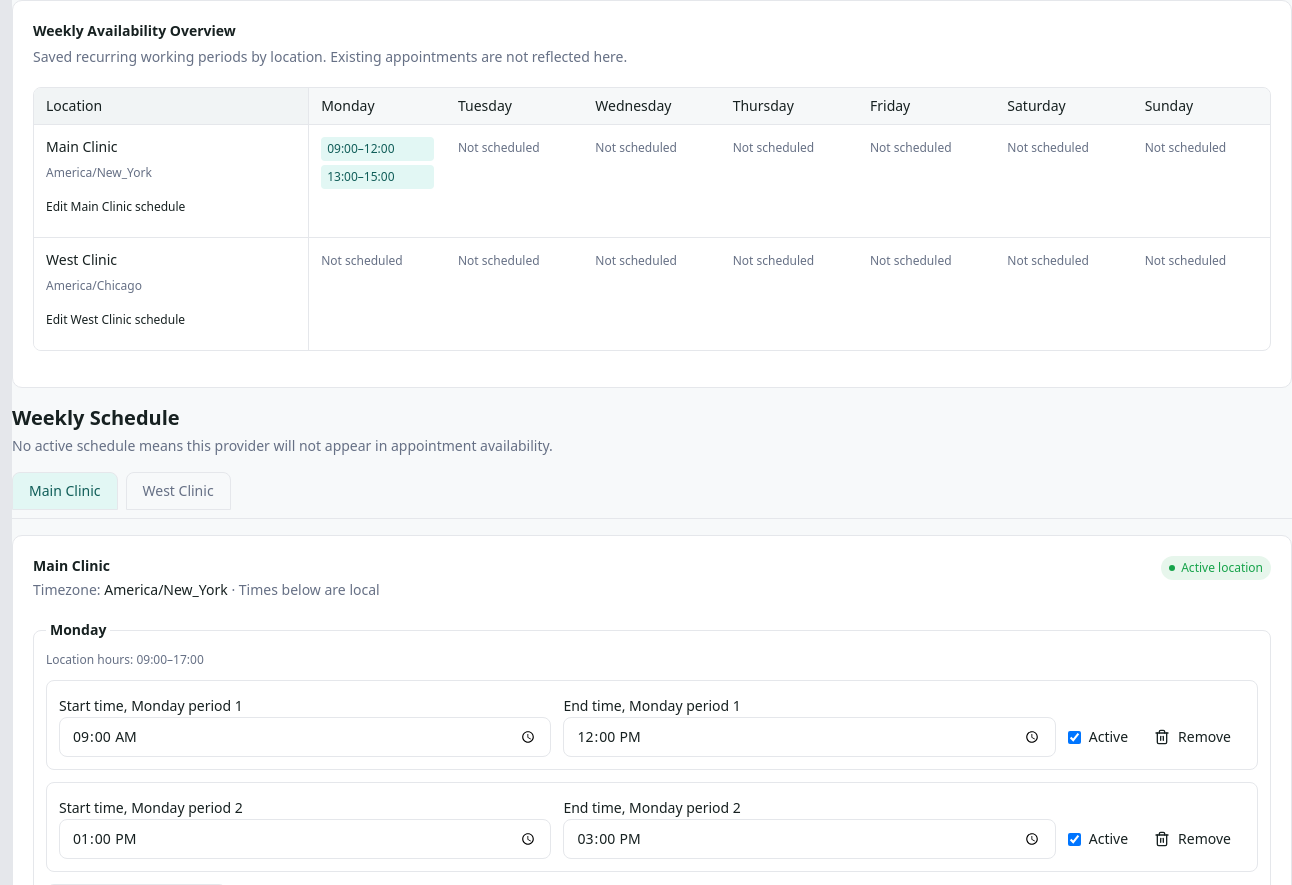
it: ProviderSchedule › switches tabs without requests and preserves accessible unsaved drafts
The width and height of the screenshot is (1292, 885).
Expected: the tab "Main Clinic" is shown, [12,472,118,510]
Replace the text in the time field labelled "End time, Monday period 1" with "11:45". click: {"x": 810, "y": 737}
box: [563,717,1056,757]
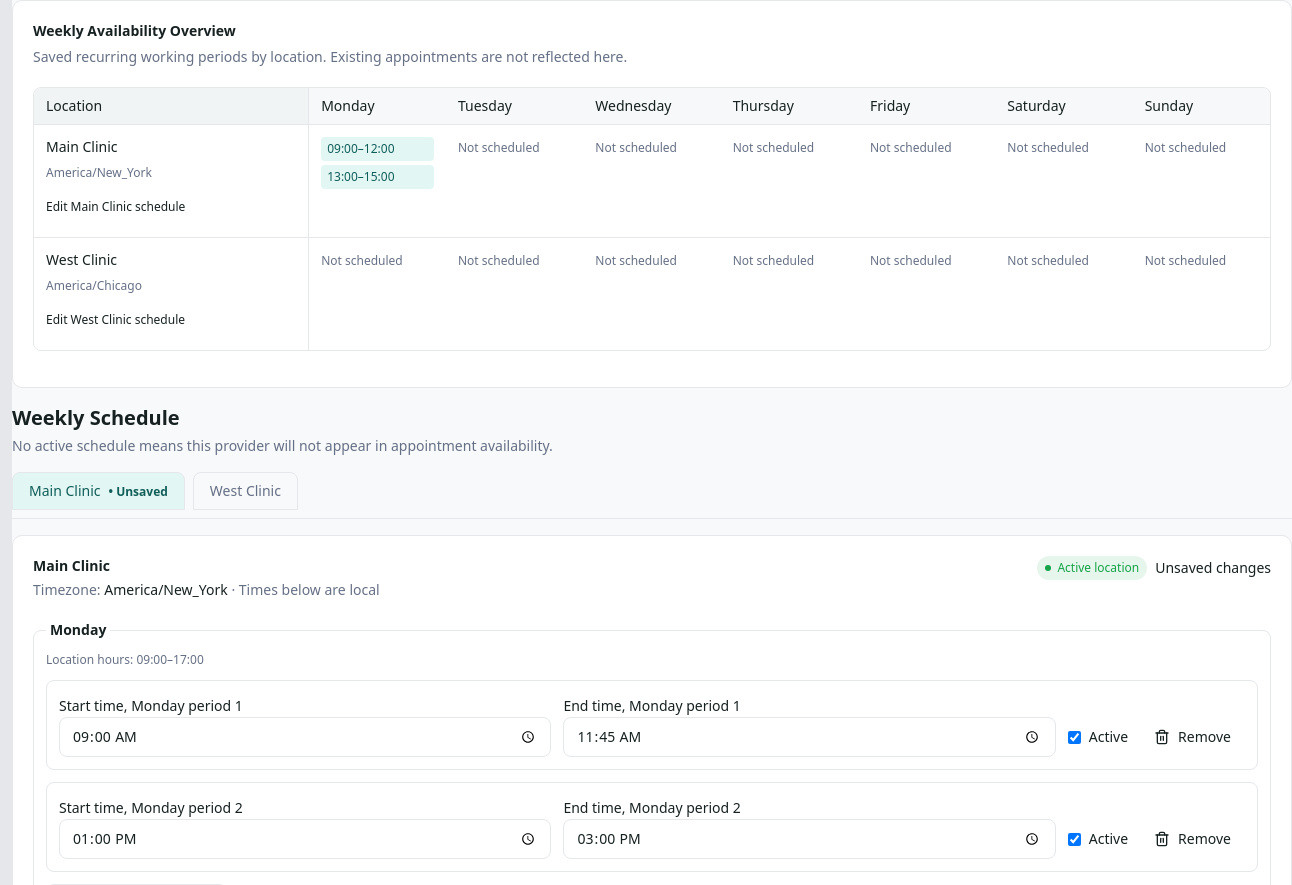
Result: the tab with aria-label "Main Clinic, Unsaved changes" shows "Unsaved" at [12,472,185,510]
Click the tab "West Clinic". click: {"x": 245, "y": 491}
box: [193,472,298,510]
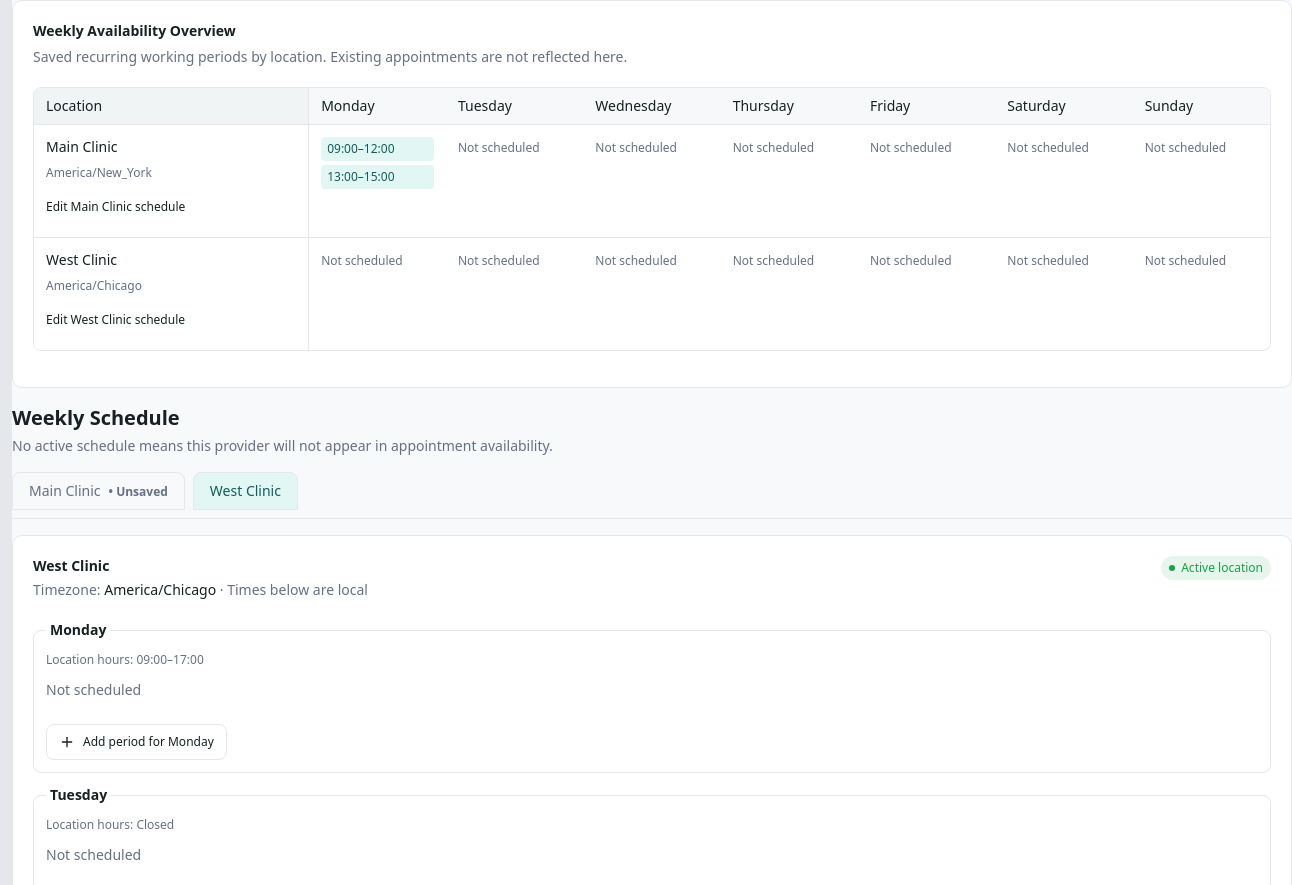
Result: the label labelled "Start time, Monday" is gone
Click the tab with aria-label "Main Clinic, Unsaved changes". click: {"x": 98, "y": 491}
box: [12,472,185,510]
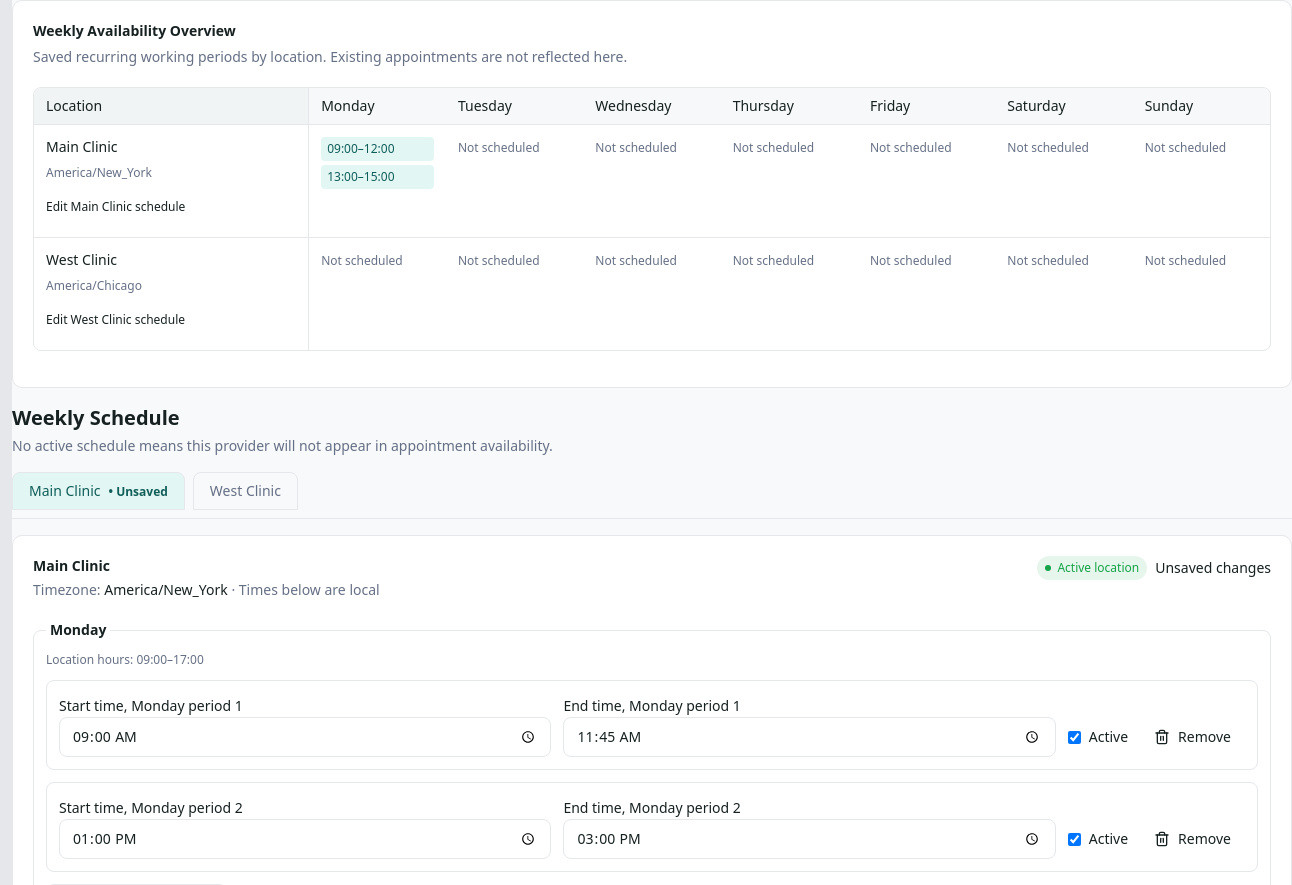
Result: the time field labelled "End time, Monday period 1" holds "11:45" at [563,717,1056,757]
